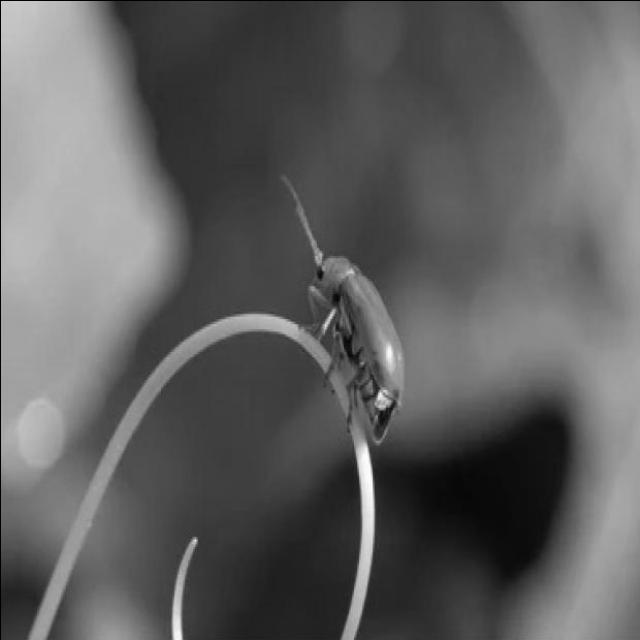Pumpkin Beetle: (272, 168, 409, 455)
